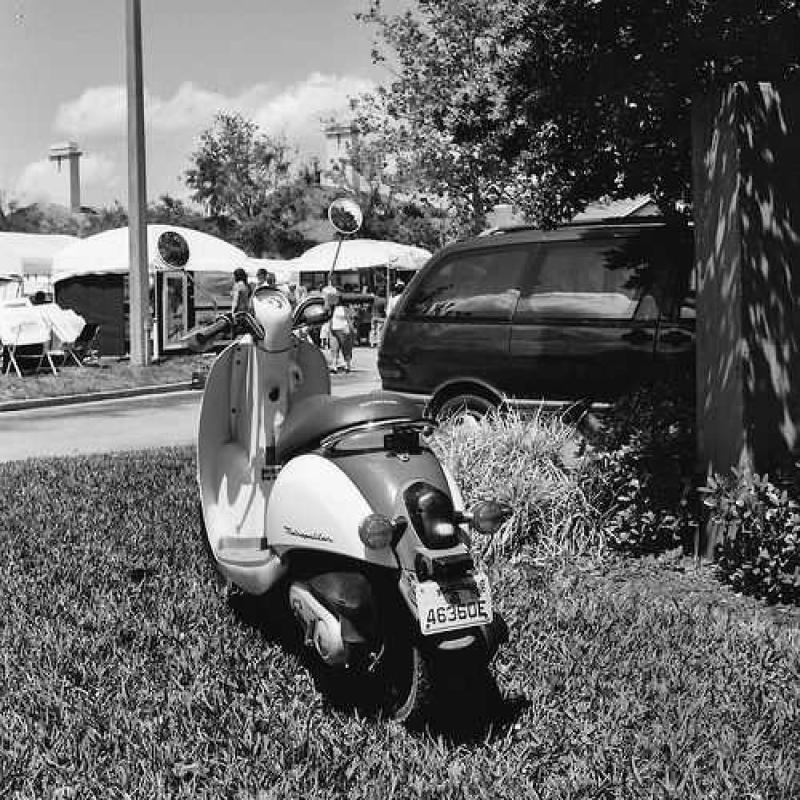bike: (164, 185, 498, 703)
